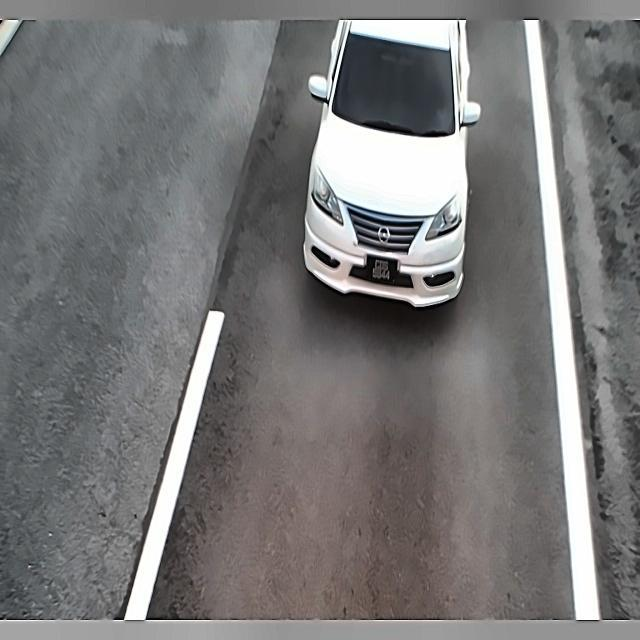car: (366, 251, 404, 295)
